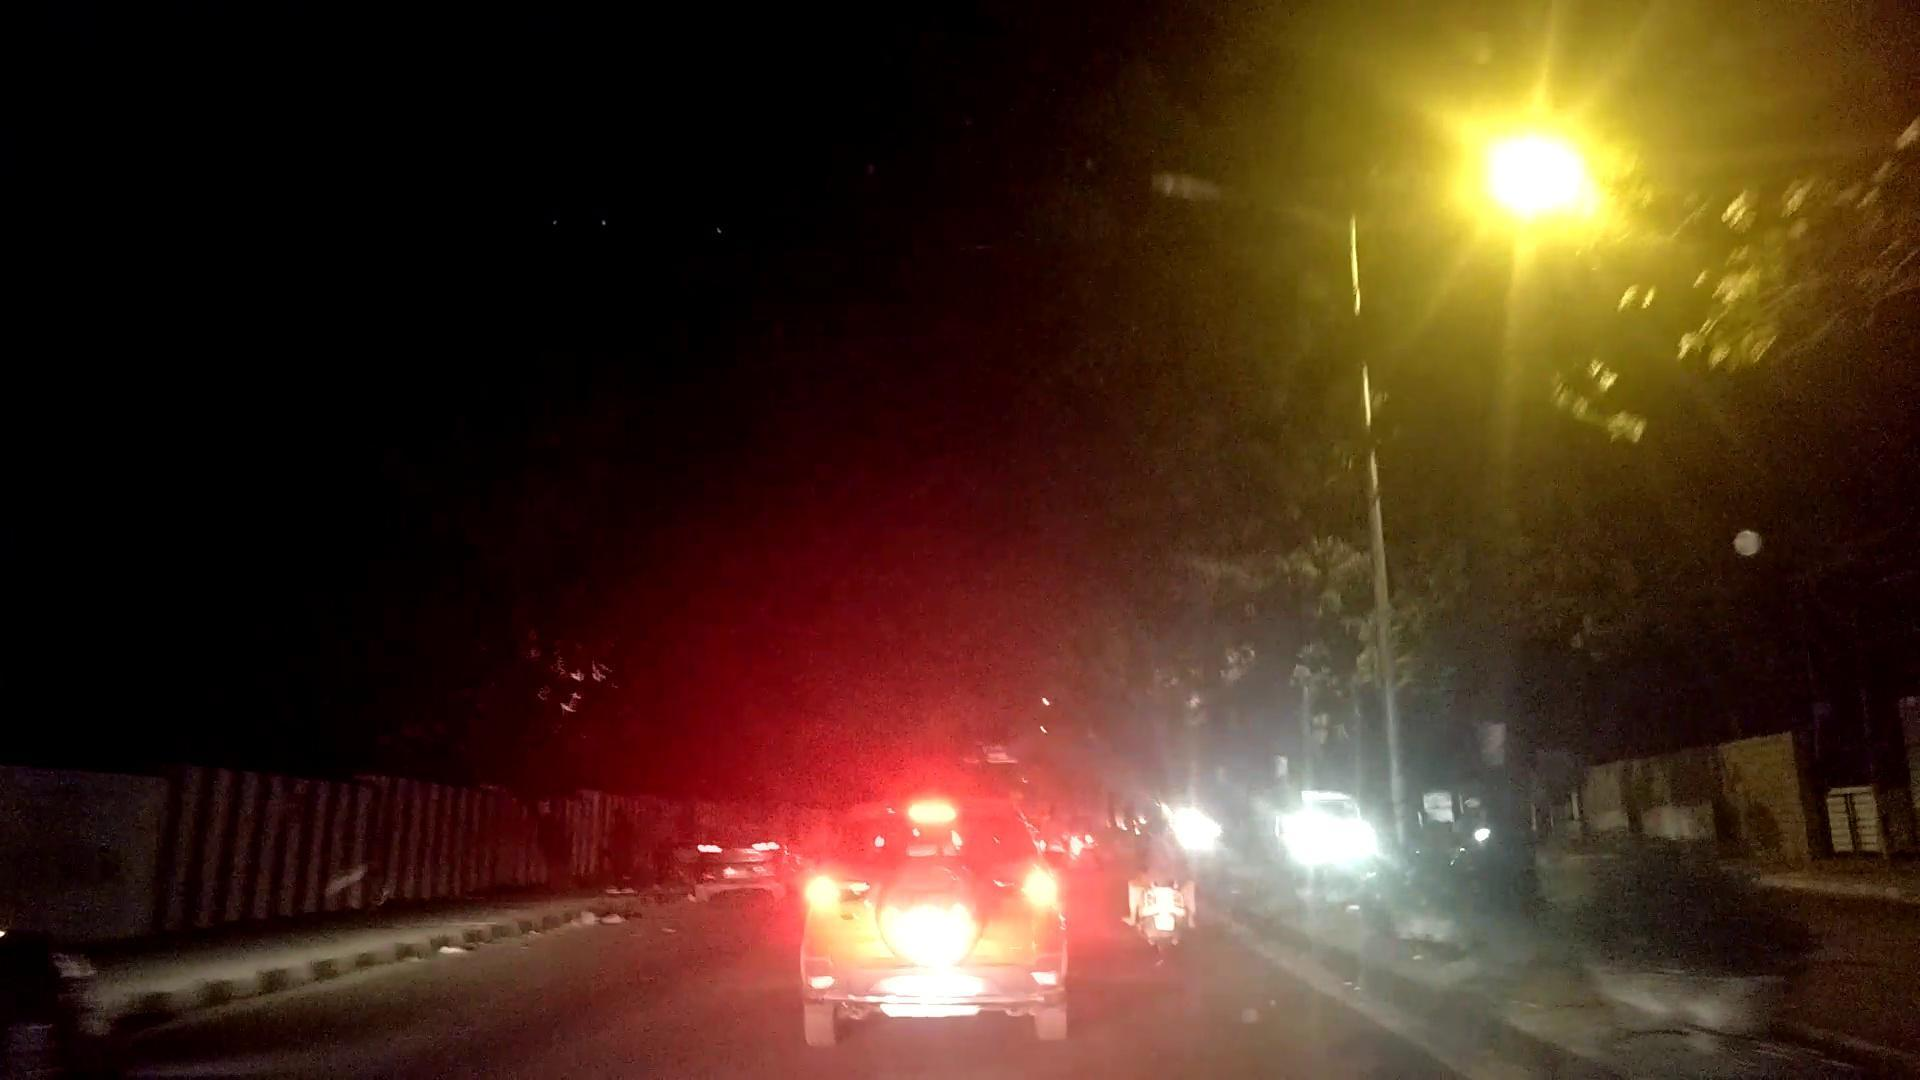on: (0, 3, 1822, 1080)
